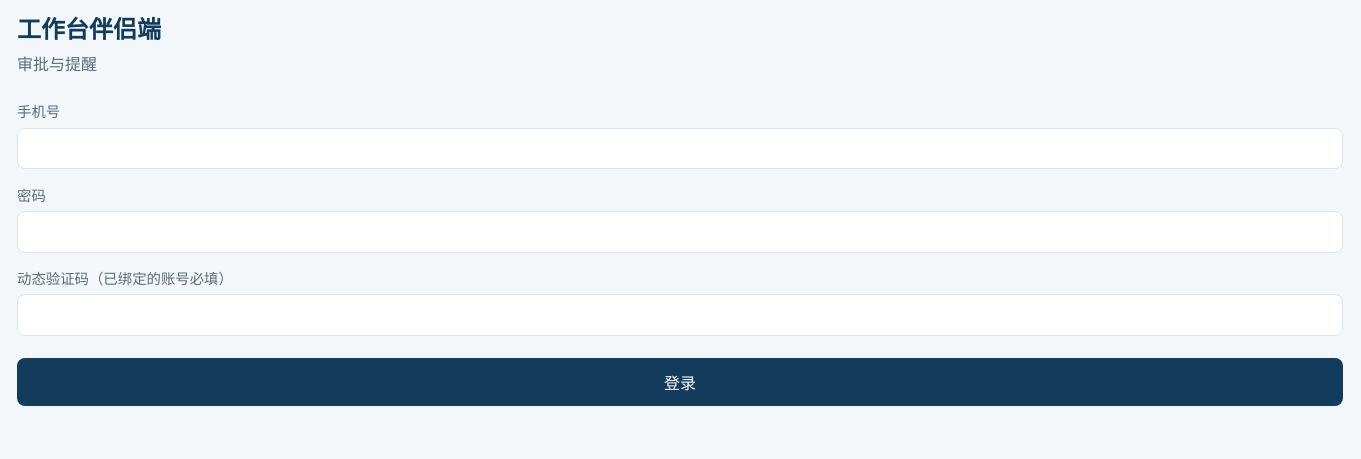
LoginPage › tells the user when the TOTP code is wrong (not "password wrong")
Type "13800000000" into the field labelled "手机号" at (680, 148), box 17,128 -> 1343,169
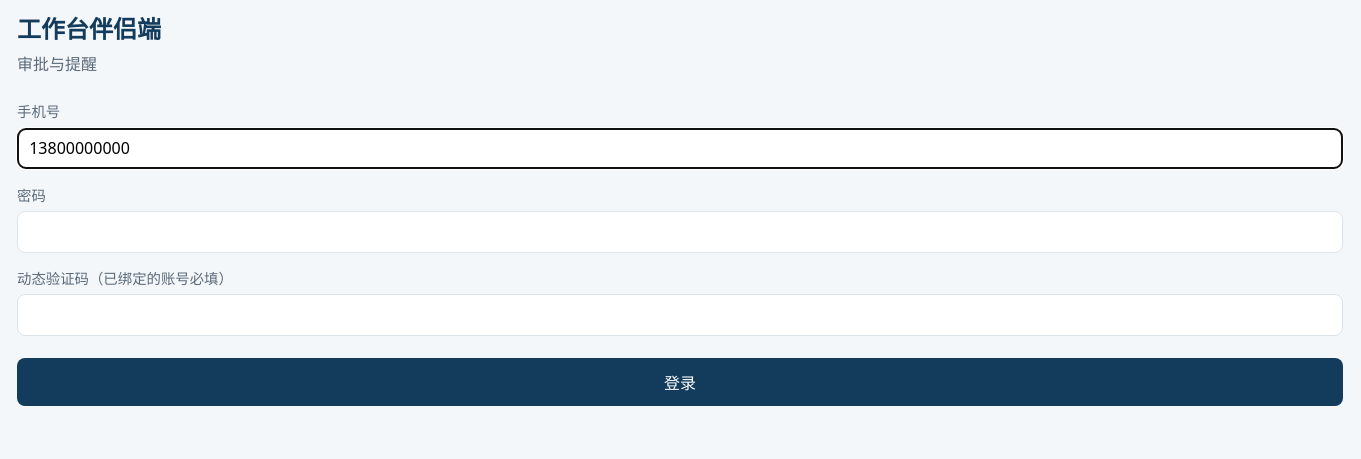
Type "correct-horse-battery" into the password field labelled "密码" at (680, 232), box 17,211 -> 1343,253
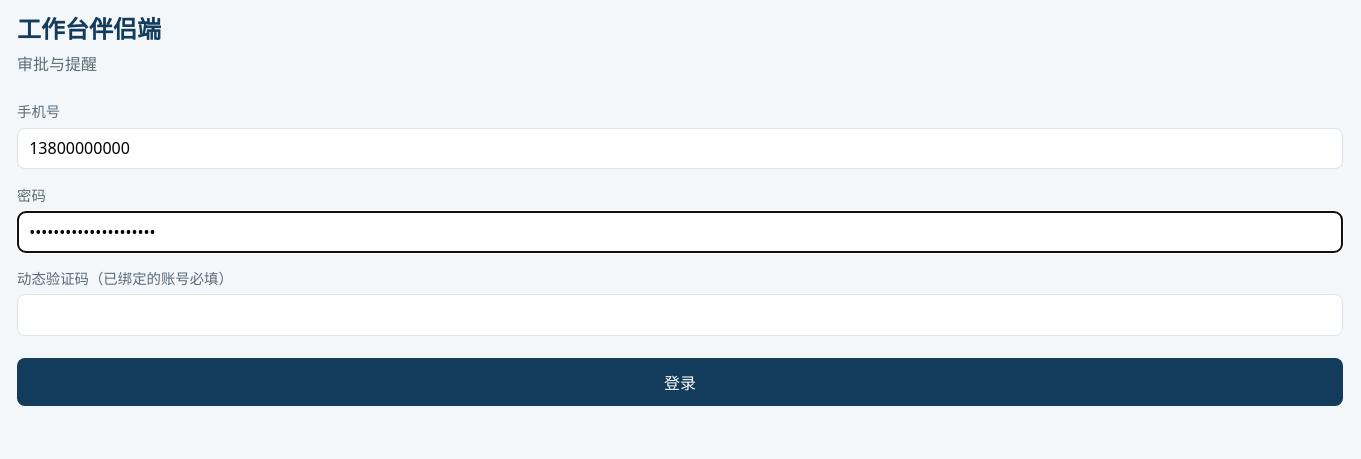
Type "123456" into the field labelled "动态验证码（已绑定的账号必填）" at (680, 315), box 17,294 -> 1343,336
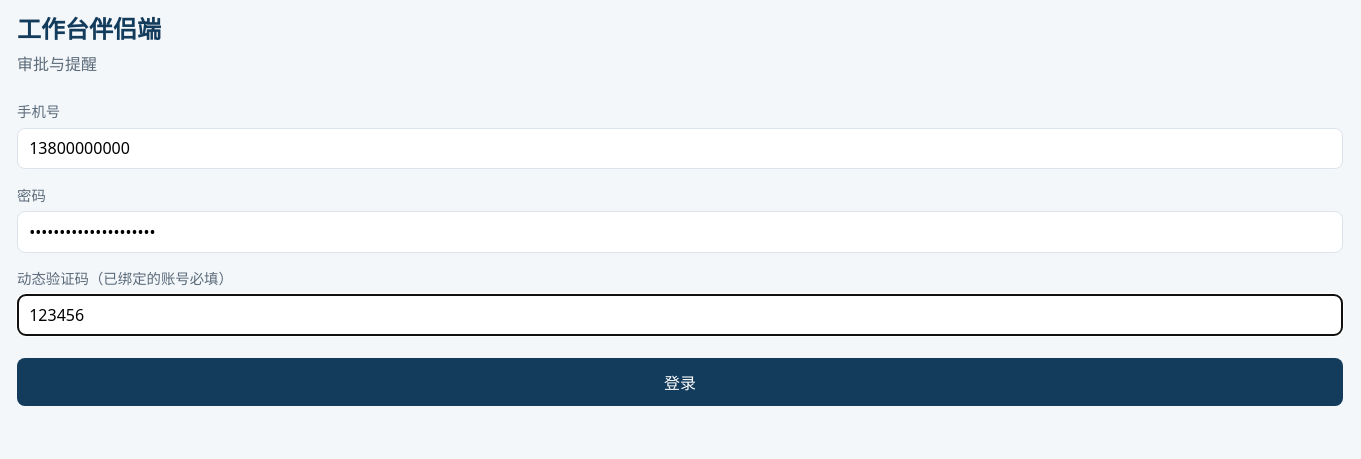
Click the button "登录" at (680, 382), box 17,358 -> 1343,406
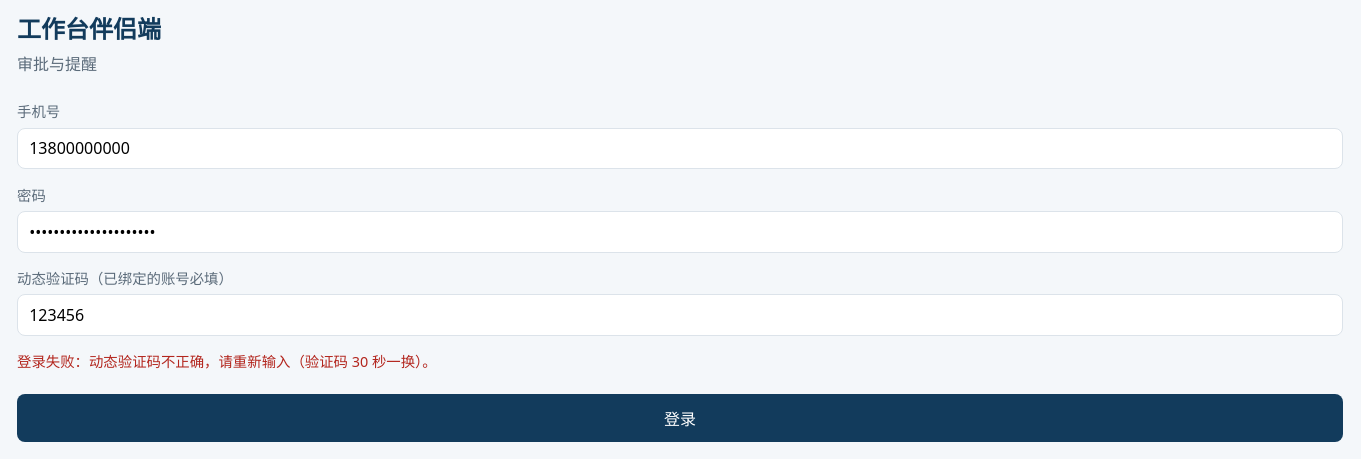
Now the message shows "动态验证码不正确", box 17,352 -> 437,371
